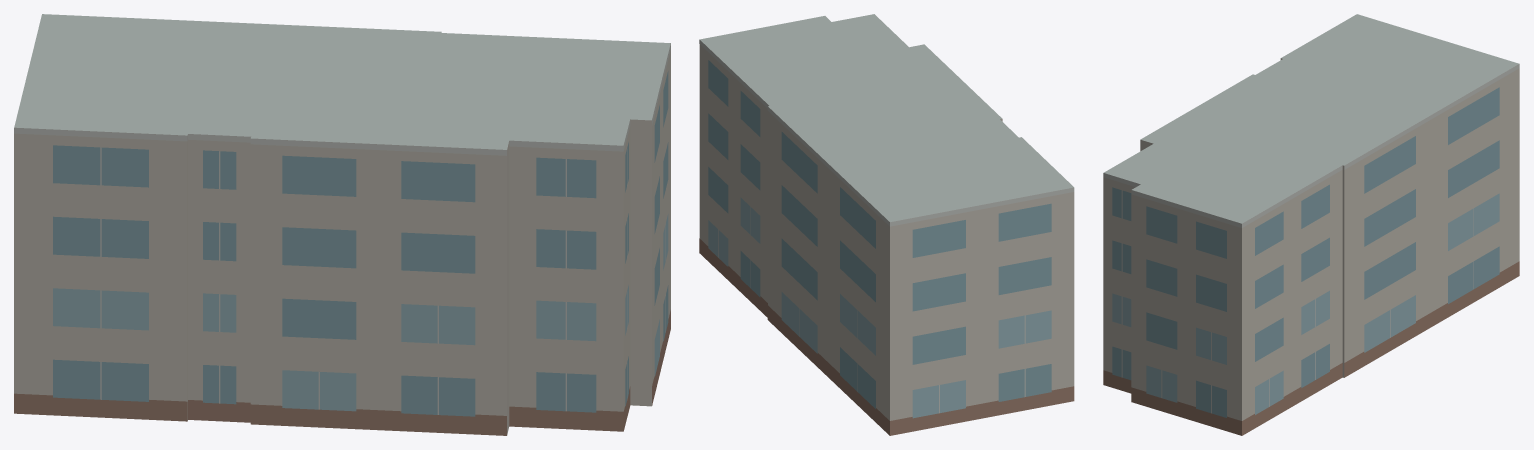
The model's file is survey-upis-32661915.glb.
The picture shows the model from 3 angles, left to right: view 1: azimuth 30°, elevation 25°; view 2: azimuth 150°, elevation 25°; view 3: azimuth 270°, elevation 25°; orthographic projection. The views are drawn at different scales.
Visible parts, largest first — view 1: survey-upis-32661915.tmp; view 2: survey-upis-32661915.tmp; view 3: survey-upis-32661915.tmp.
Boxes of the visible parts, <box> form: survey-upis-32661915.tmp: <box>14,14,670,435</box>; survey-upis-32661915.tmp: <box>699,14,1074,435</box>; survey-upis-32661915.tmp: <box>1103,14,1519,435</box>.
Size of the model in its own units: 25.02 by 11.8 by 20.98.
